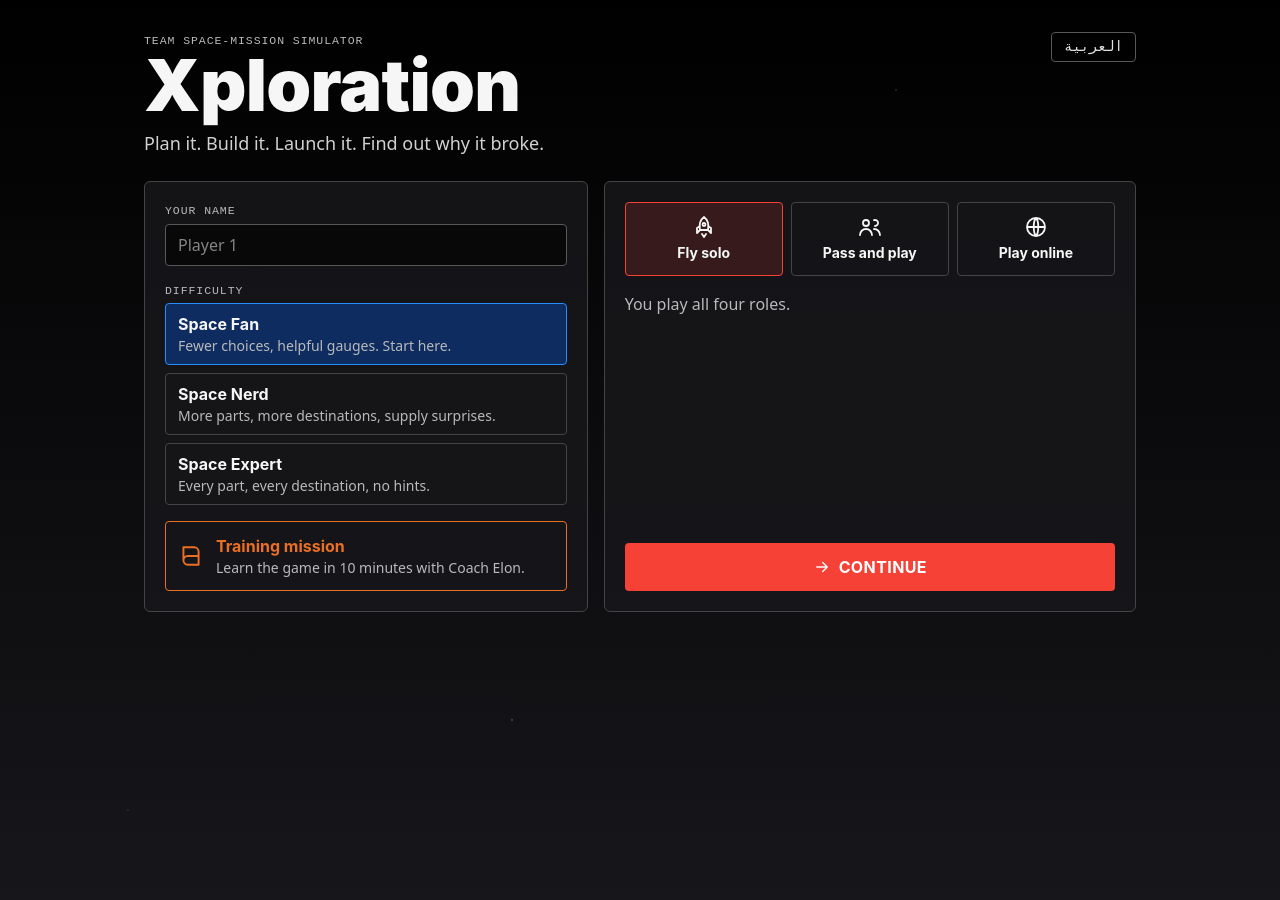
home: pass and play names › the two places to type your name stay in step
Type "Lina" into the field labelled "Your name" at (366, 244), box [165,224,567,266]
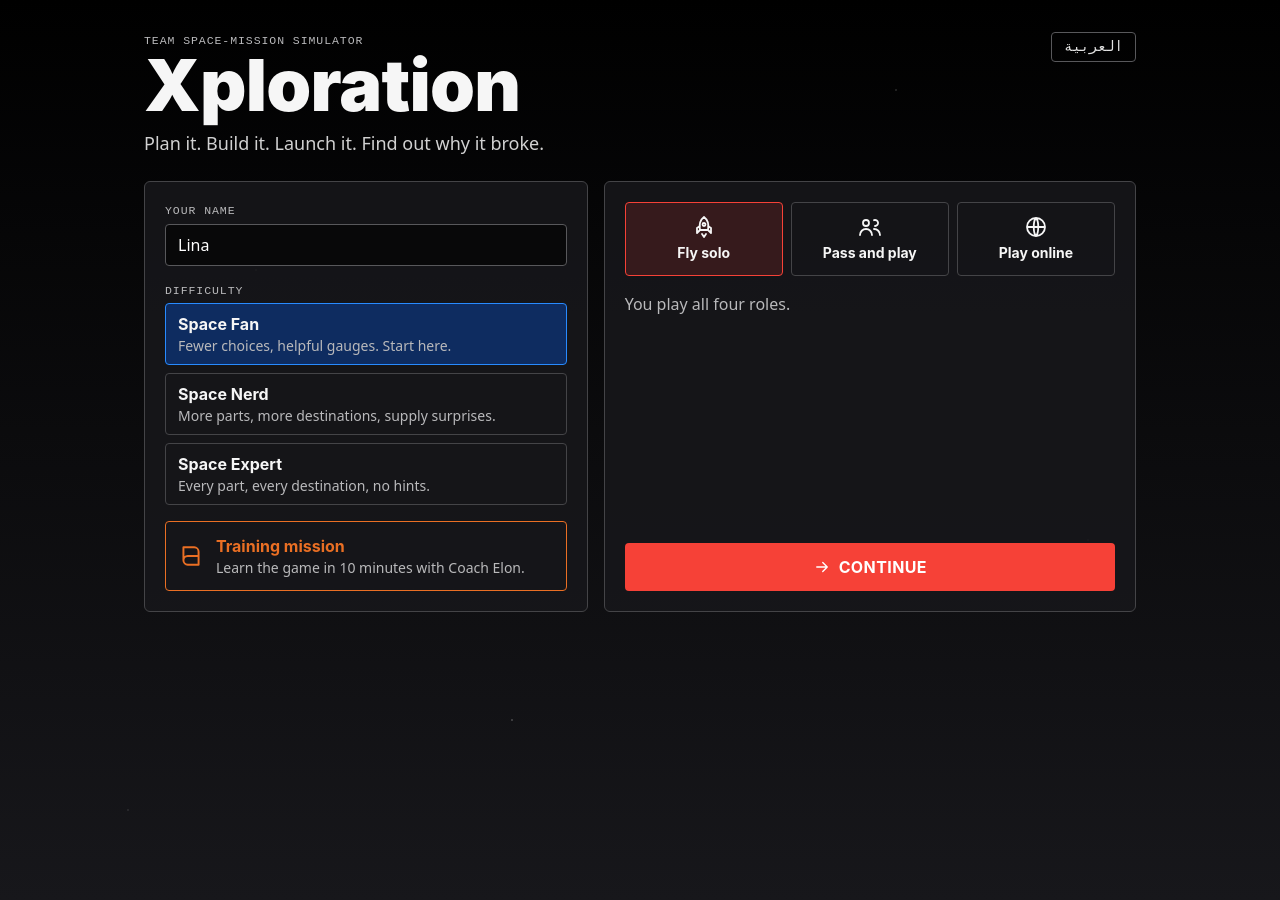
Click the tab "Pass and play" at (870, 239), box [791,202,949,276]
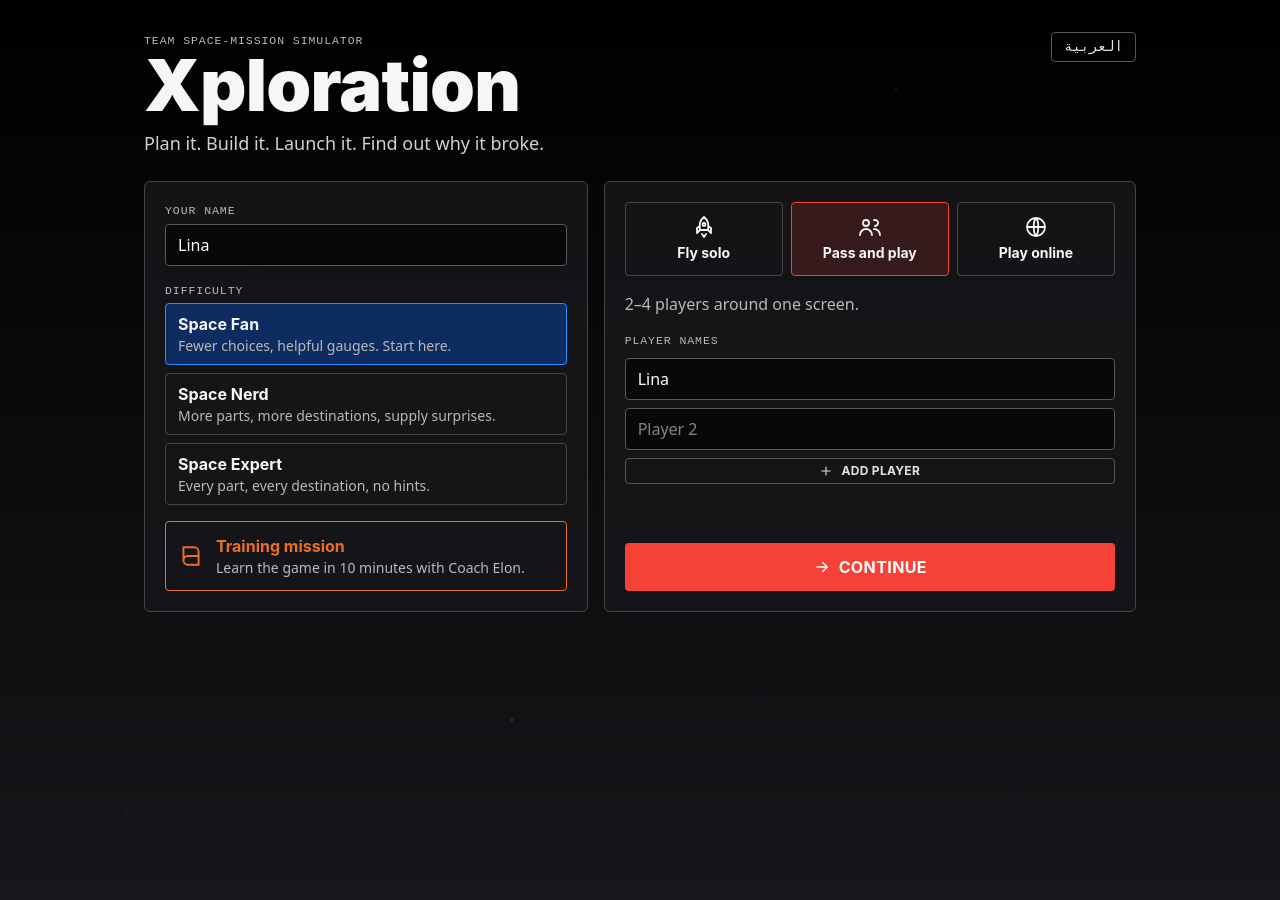
Expected: the field named "Player 1 name" holds "Lina"
Replace the text in the field named "Player 1 name" with "Lina M" at (870, 378), box [625,358,1115,400]
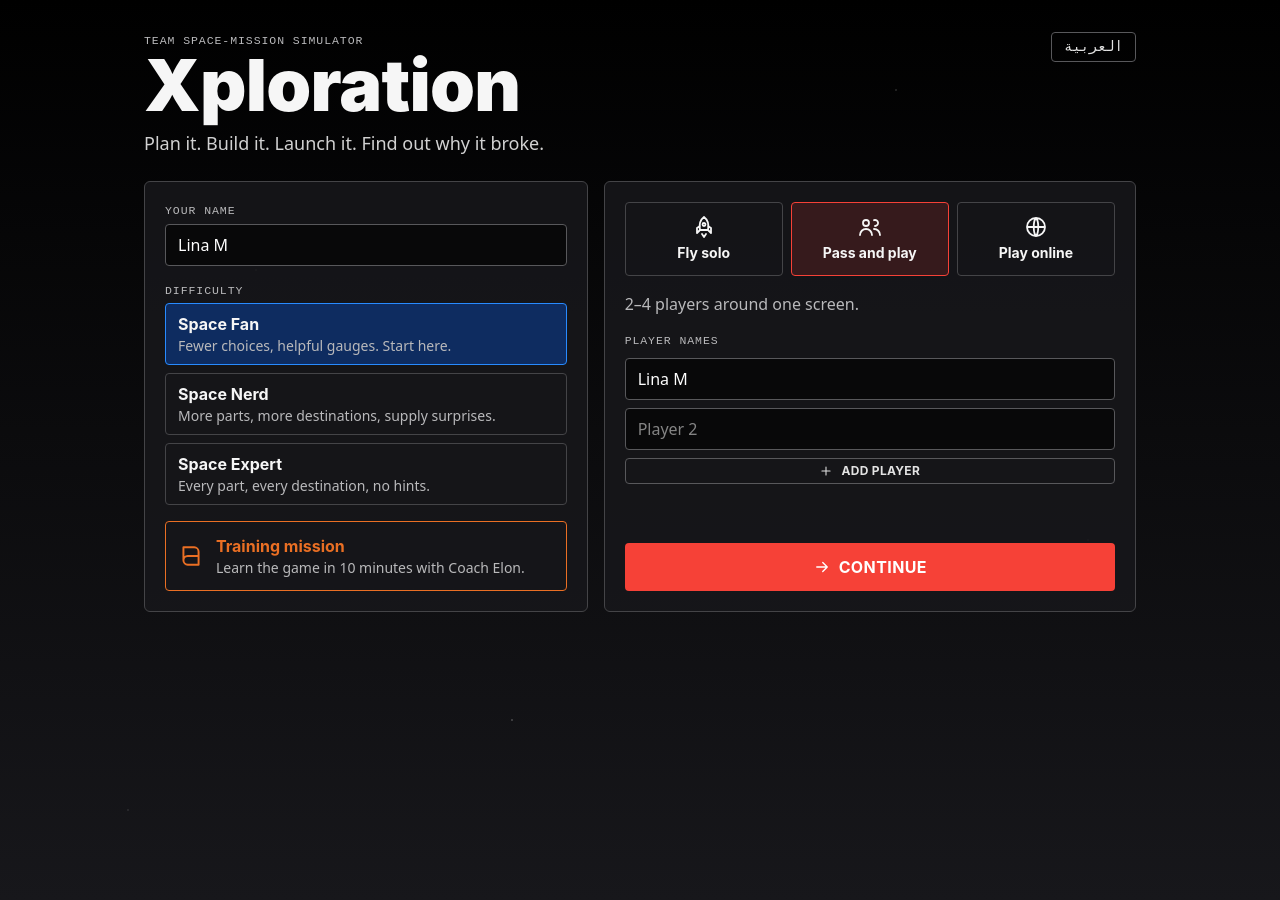
Expected: the field labelled "Your name" holds "Lina M", [165,224,567,266]
